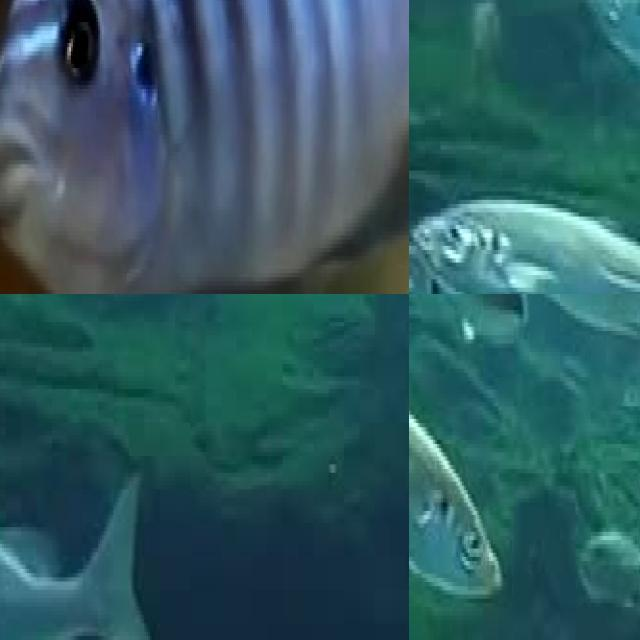fish: (0, 0, 409, 294), (0, 435, 194, 640), (409, 294, 514, 640)
